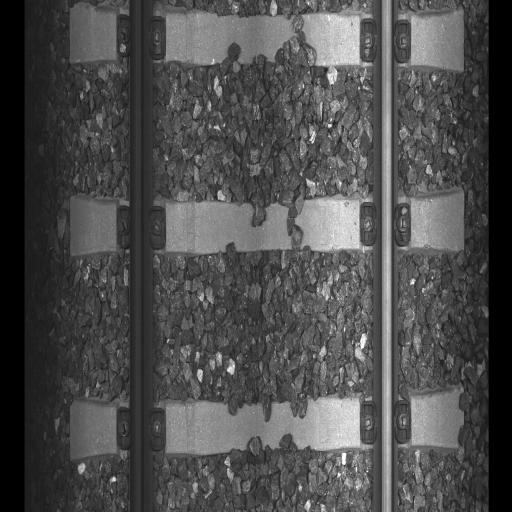sleeper: (69, 5, 466, 74), (69, 196, 465, 256), (69, 398, 465, 458)
